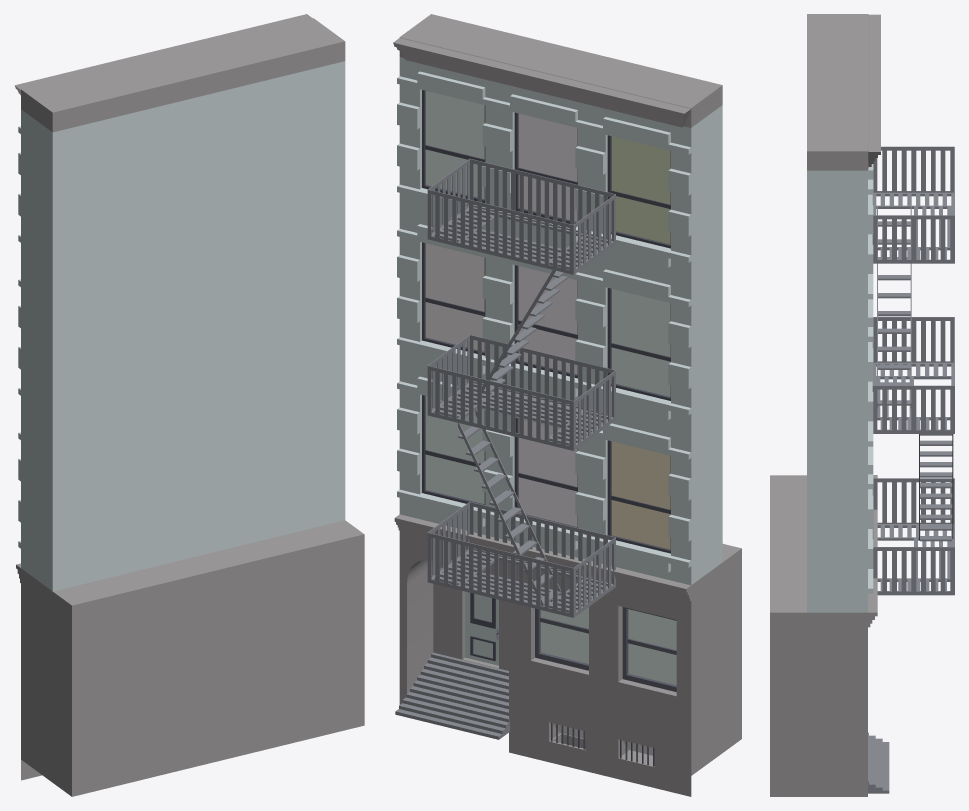
3 views of the same model, side by side, from view 1: azimuth 30°, elevation 25°; view 2: azimuth 150°, elevation 25°; view 3: azimuth 270°, elevation 25° (orthographic). The views are drawn at different scales.
Parts seen in each view (by area): view 1: facade019; view 2: facade019, esacalier, esca01; view 3: facade019, esacalier, esca01.
Part boxes in pixels (x1,y1,x2,y2): facade019: (14,14,364,796); facade019: (393,14,741,796); esacalier: (427,335,615,617); esca01: (427,158,615,392); facade019: (770,14,889,796); esacalier: (872,317,954,595); esca01: (872,146,954,408).
Size of the model in its own units: 315 by 711 by 179.
